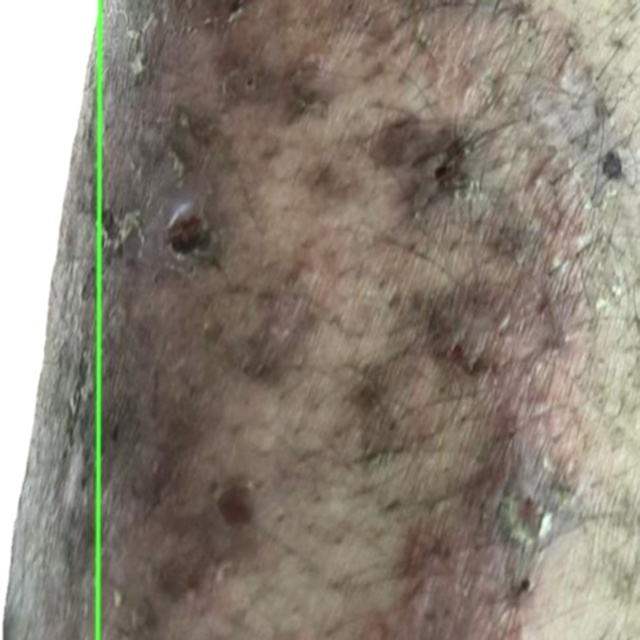Tinea Corporis: (0, 0, 100, 639)
